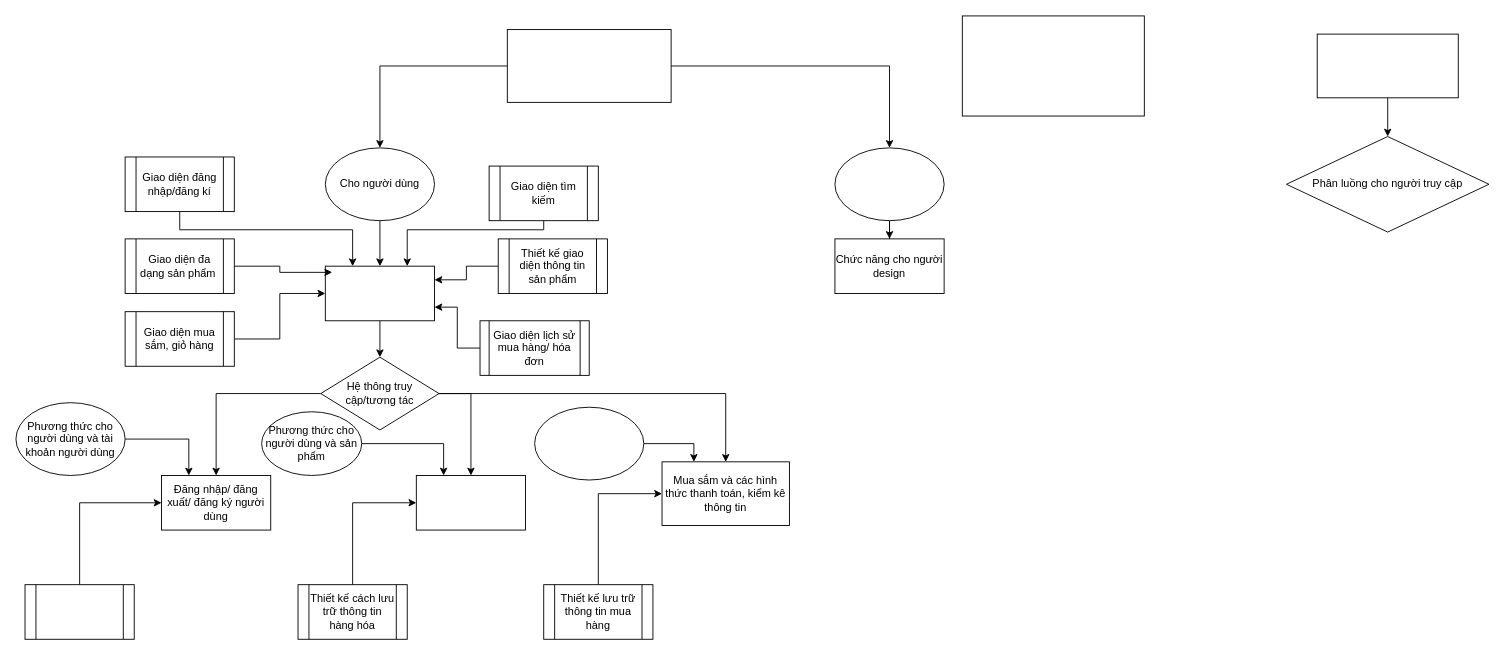
The diagram is 1505 pixels wide and 655 high, and some of its shapes have lost their labels. Here are the shapes that lost their labels. From the top down, the centre of each, then its label:
At point (588, 65): "Thiết kế giao diện".
At point (1052, 65): "Tương lai: Thuê host server / tự làm server".
At point (1387, 65): "Thiết kế server/ IP/ Địa chỉ website".
At point (889, 184): "Cho Design/ quản trị".
At point (379, 293): "Chức năng cho người dùng".
At point (589, 443): "Phương thức cho người dùng + thông tin mua hàng".
At point (470, 502): "Tương tác với thông tin sản phẩm".
At point (79, 611): "Thiết kế cách thức lưu trữ tài khoản người dùng".
